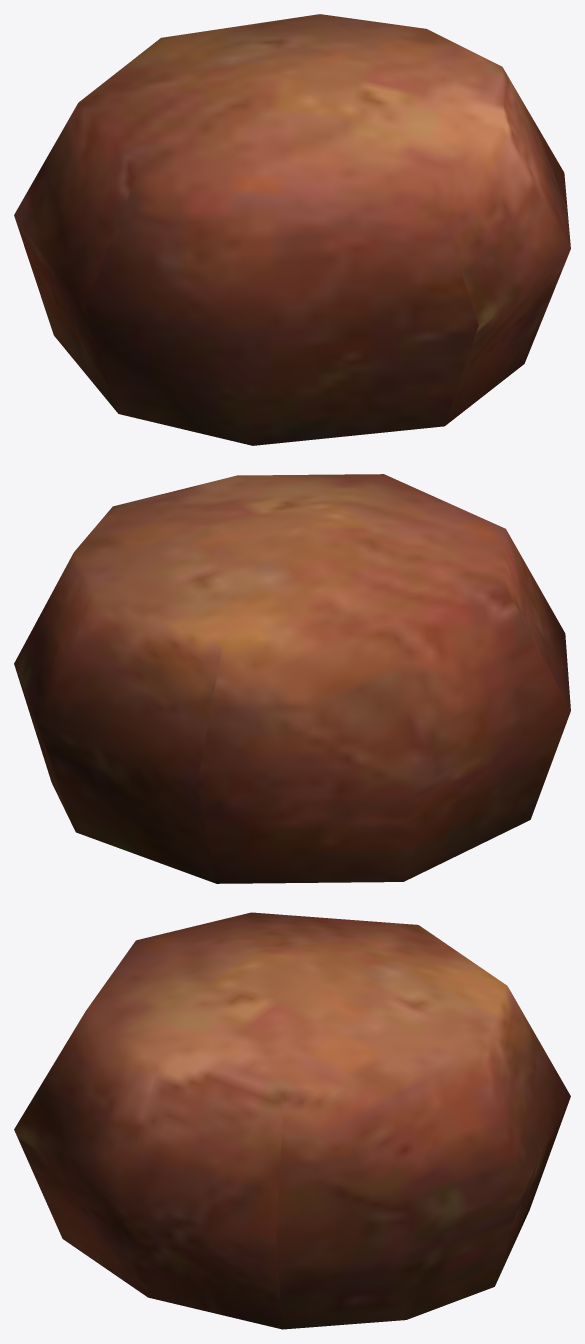
The model's file is map_113_wujian_9.fbx.
3 renders of one model, top to bottom at view 1: azimuth 30°, elevation 25°; view 2: azimuth 150°, elevation 25°; view 3: azimuth 270°, elevation 25°, orthographic. The views are drawn at different scales.
Parts seen in each view (by area): view 1: map_113_wujian_9; view 2: map_113_wujian_9; view 3: map_113_wujian_9.
Boxes of the visible parts, box(x1,y1,x2,y2) form: map_113_wujian_9: box(14, 14, 570, 445); map_113_wujian_9: box(14, 474, 570, 883); map_113_wujian_9: box(14, 912, 570, 1329).
Bounding box in the file's own units: 0.4605 × 0.2385 × 0.4585.
